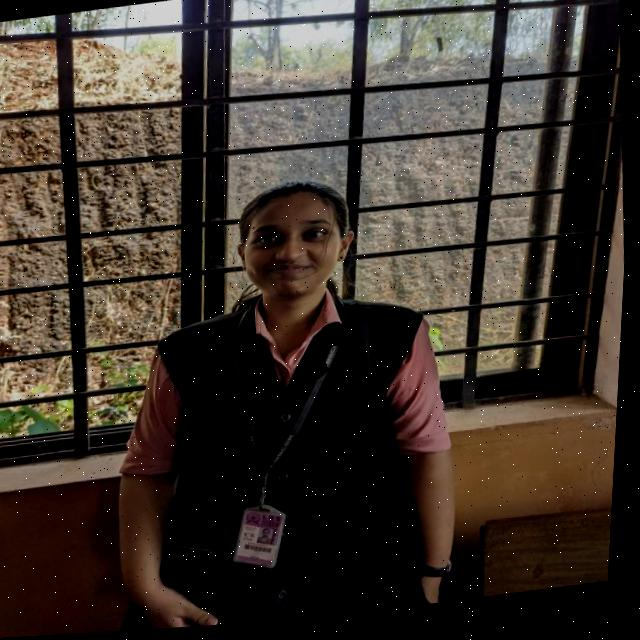id_card: (207, 289, 361, 578)
